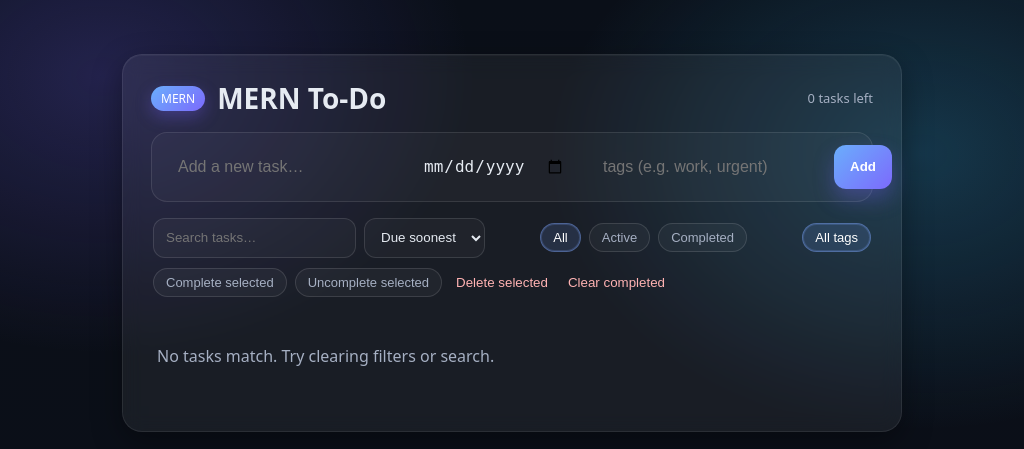
Test: To-Do App › adds a task and shows it
Step 1. Type "Write tests" into the field with placeholder "Add a new task…" → (282, 166), box [164,144,399,188]
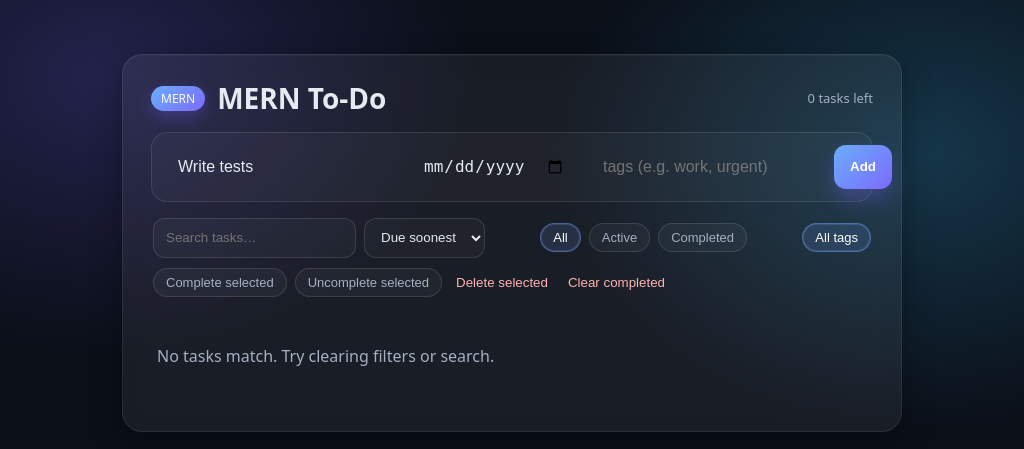
Step 2. Click the button "Add" → (863, 166), box [834,144,892,188]
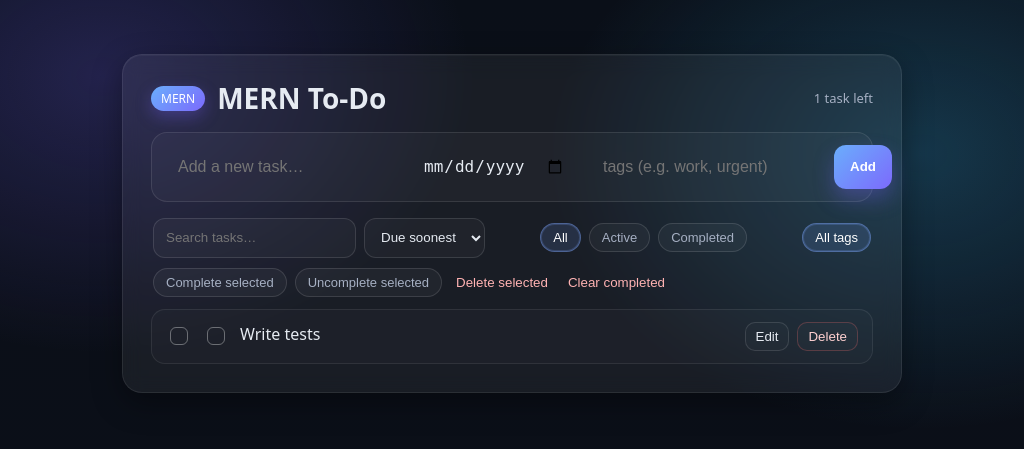
Now the text "Write tests" is shown, box [240,323,320,345]
